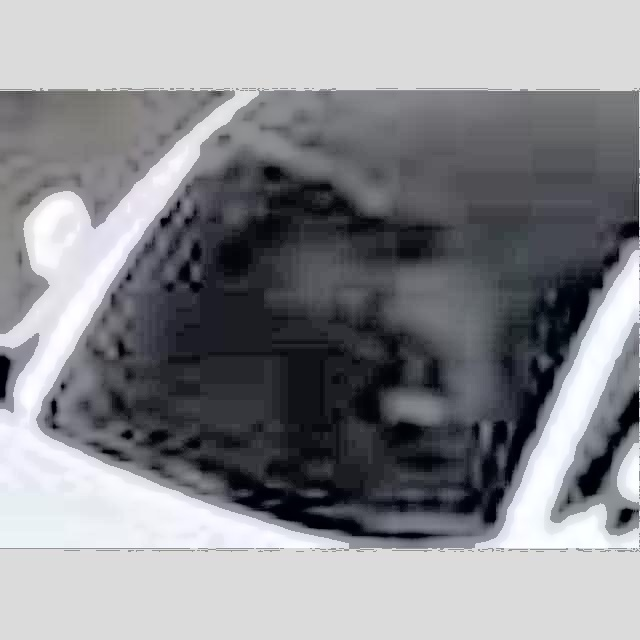pakai: (291, 224, 482, 448)
